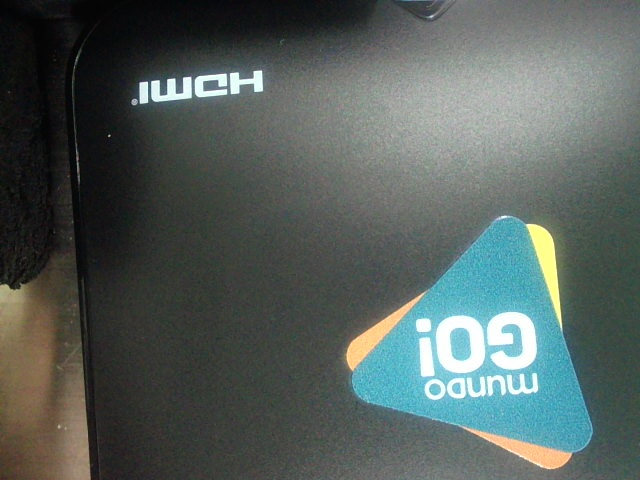AP_IPGMundoGO: (320, 206, 605, 476)
